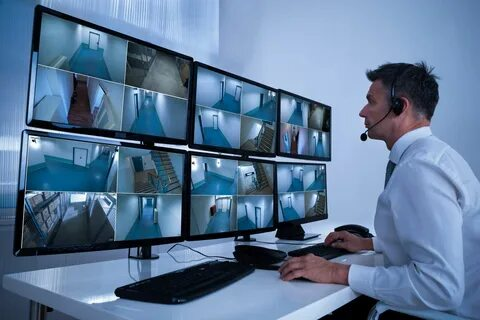awake: (339, 61, 479, 320)
